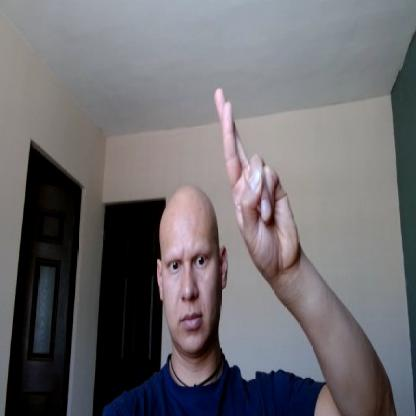R: (214, 87, 300, 273)
